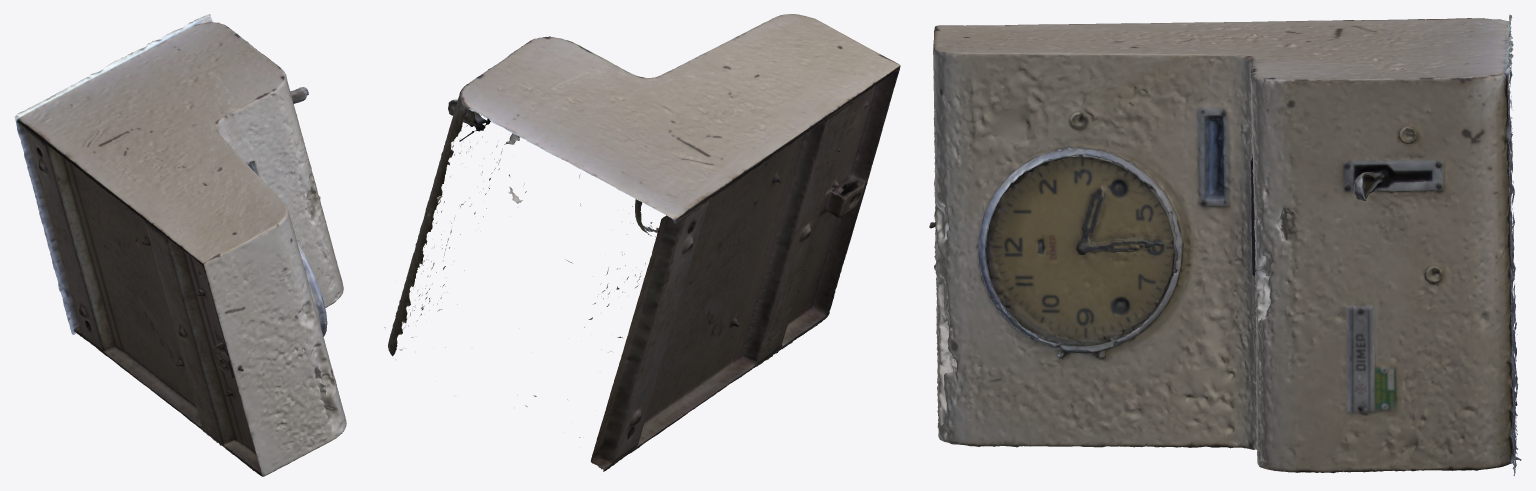
File: relogio_otimizado.glb
The picture shows the model from 3 angles, left to right: view 1: azimuth 30°, elevation 25°; view 2: azimuth 150°, elevation 25°; view 3: azimuth 270°, elevation 25°; orthographic projection. The views are drawn at different scales.
Visible parts, largest first — view 1: Mesh_0_Part_0; view 2: Mesh_0_Part_0; view 3: Mesh_0_Part_0.
Boxes of the visible parts, x1=… form: Mesh_0_Part_0: x1=14, y1=14, x2=346, y2=476; Mesh_0_Part_0: x1=384, y1=14, x2=900, y2=471; Mesh_0_Part_0: x1=929, y1=14, x2=1521, y2=475.
Size of the model in its own units: 16.74 by 18.11 by 21.96.
1 material, 1 textured.
